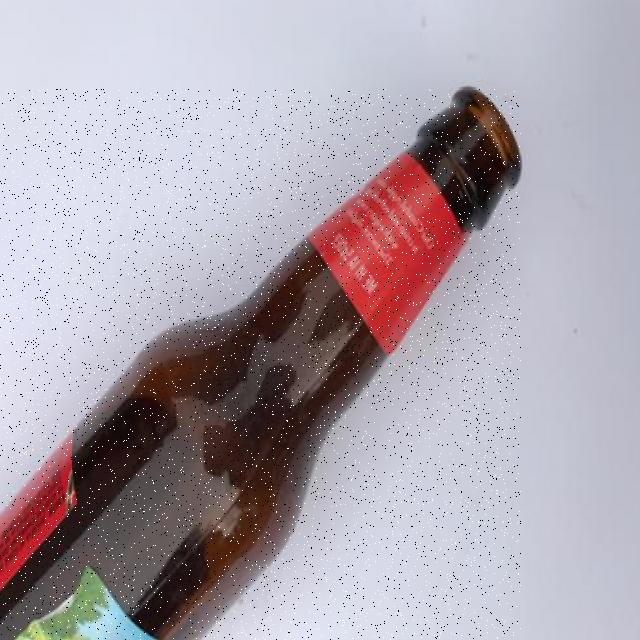glass: (0, 89, 521, 639)
